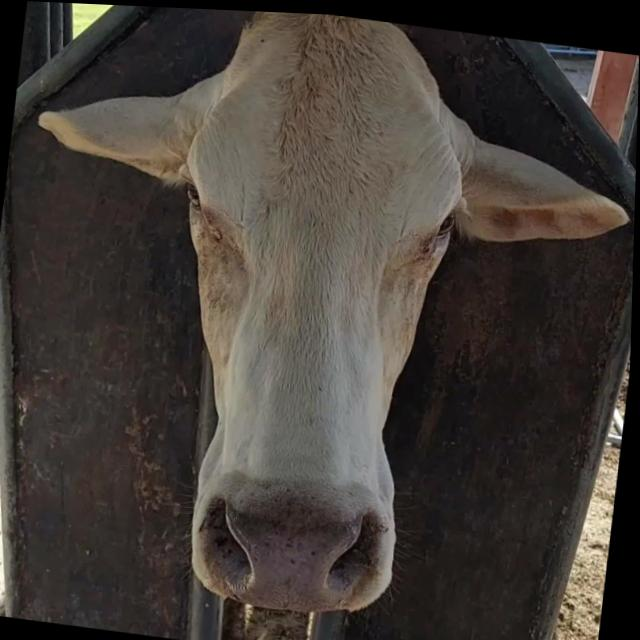cowFace: (135, 5, 482, 623)
